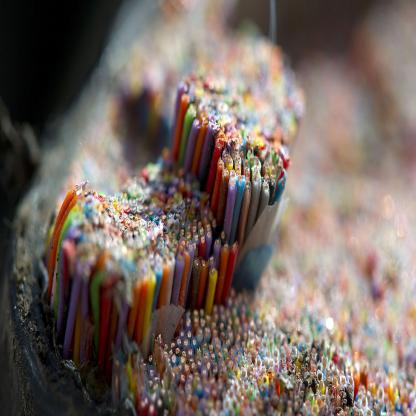wires: (43, 1, 416, 413)
